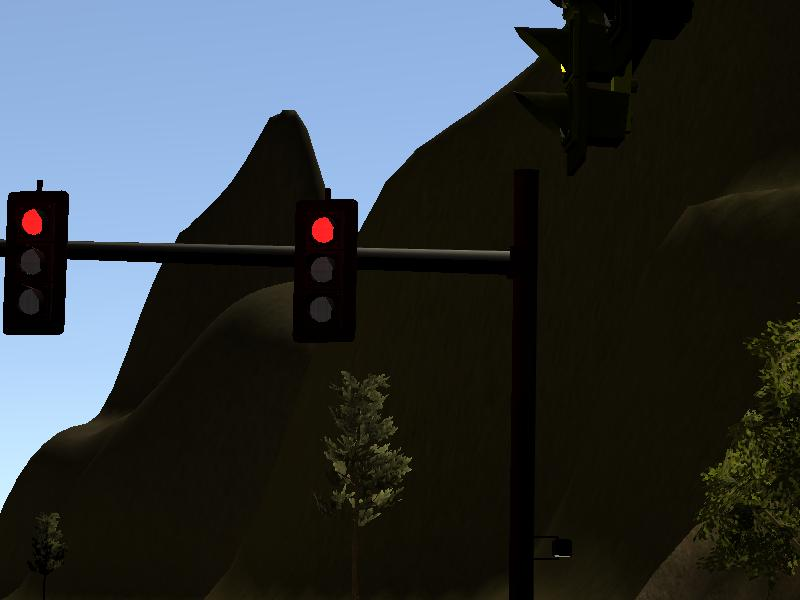red: (4, 188, 64, 333), (299, 198, 355, 341)
